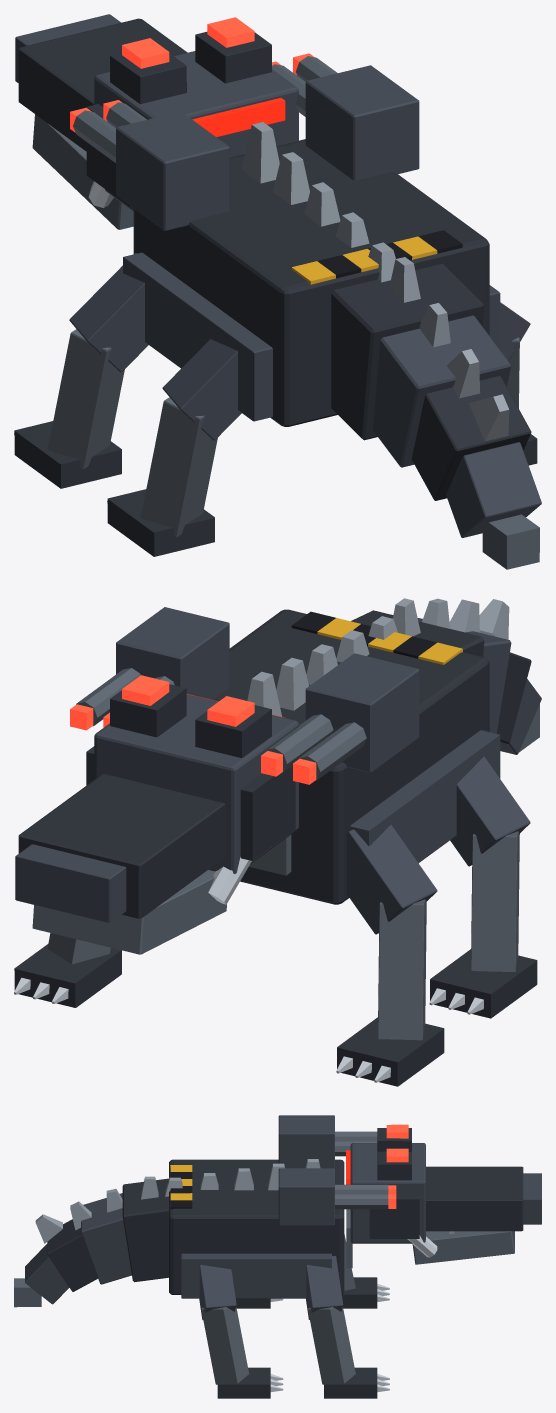
Rendered from mecha-crocodon.glb.
3 renders of one model, top to bottom at view 1: azimuth 30°, elevation 25°; view 2: azimuth 150°, elevation 25°; view 3: azimuth 270°, elevation 25°, orthographic. The views are drawn at different scales.
Visible parts, largest first — view 1: body, tail, head, leg.FR, leg.BR, leg.BL; view 2: body, head, leg.FR, leg.BR, tail, leg.FL; view 3: body, head, tail, leg.FL, leg.BL, leg.FR, leg.BR.
Boxes of the visible parts, bbox=[...] form: body: bbox=[70, 53, 500, 426]; tail: bbox=[331, 257, 541, 569]; head: bbox=[15, 14, 298, 229]; leg.FR: bbox=[14, 253, 148, 488]; leg.BR: bbox=[107, 339, 241, 556]; leg.BL: bbox=[500, 302, 537, 465]; body: bbox=[70, 607, 500, 904]; head: bbox=[15, 675, 298, 954]; leg.FR: bbox=[336, 824, 444, 1086]; leg.BR: bbox=[429, 756, 537, 1018]; tail: bbox=[351, 598, 541, 754]; leg.FL: bbox=[14, 933, 121, 1007]; body: bbox=[165, 1115, 396, 1298]; head: bbox=[346, 1124, 541, 1264]; tail: bbox=[14, 1176, 168, 1307]; leg.FL: bbox=[306, 1256, 389, 1398]; leg.BL: bbox=[199, 1264, 283, 1398]; leg.FR: bbox=[342, 1234, 389, 1308]; leg.BR: bbox=[236, 1298, 283, 1308].
Size of the model in its own units: 1.13 by 1 by 2.34.
